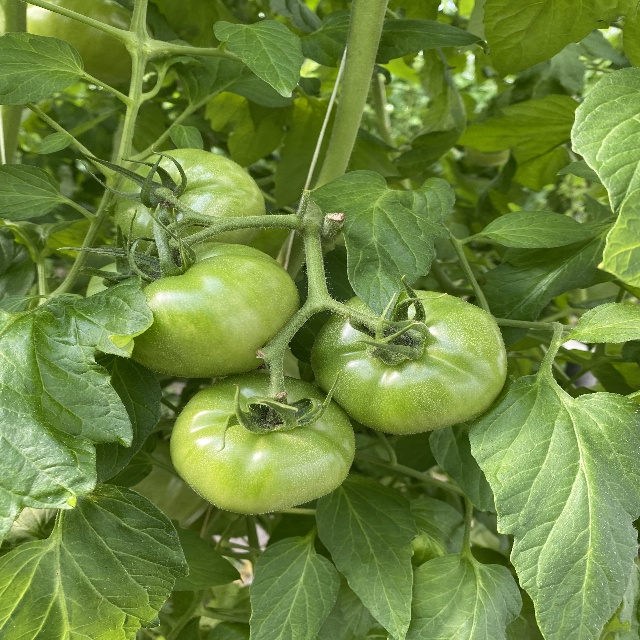l_green: (310, 290, 509, 436), (169, 374, 355, 514), (122, 241, 299, 377), (114, 148, 265, 262)
